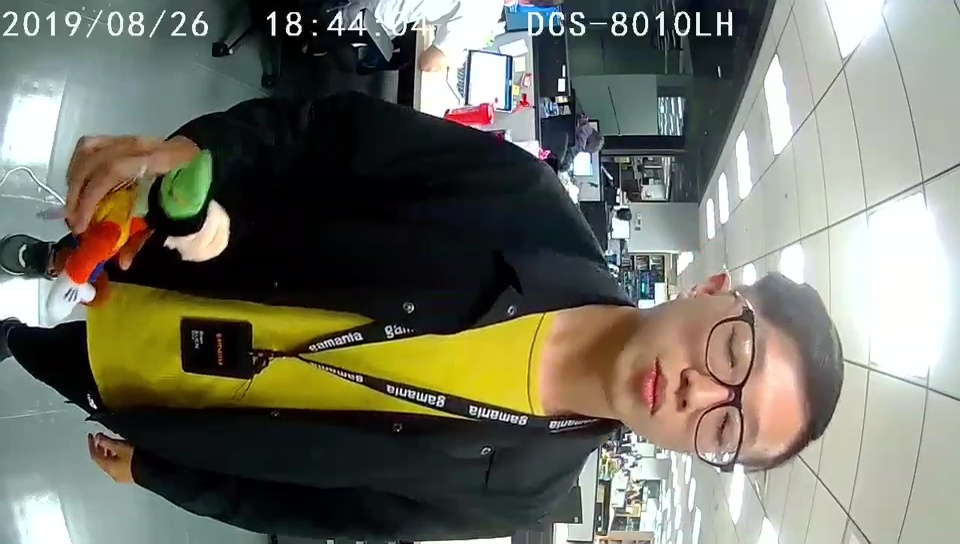goofy: (45, 151, 233, 324)
